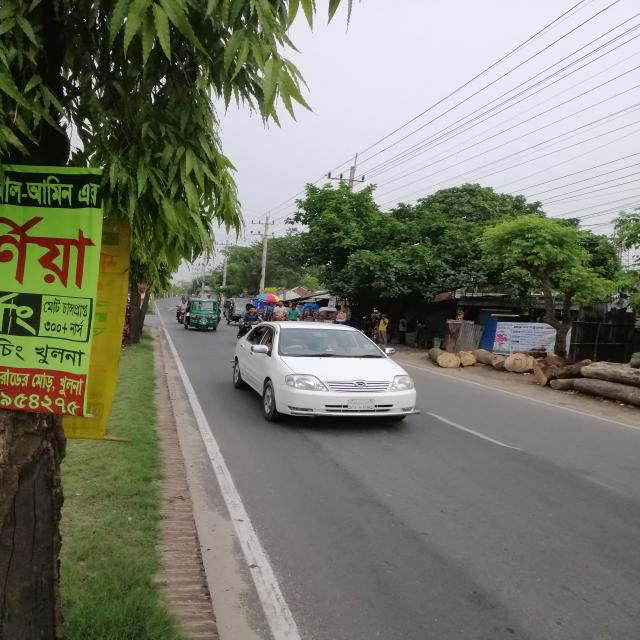Car: (231, 319, 421, 426)
